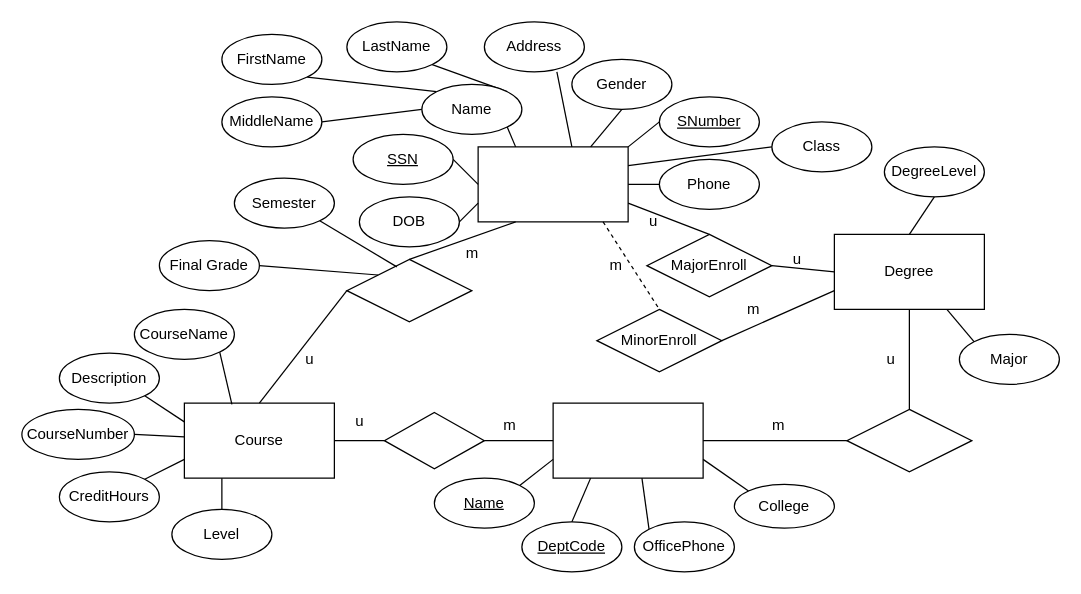
Some shapes in this 1081 by 594 pixel diagram are drawn without their labels. Here are the shapes that lost their labels. From the top down, the centre of each, then its label:
the point at 552,184: Student
the point at 409,290: Register
the point at 433,440: Offer
the point at 627,440: Department
the point at 909,440: Administer
